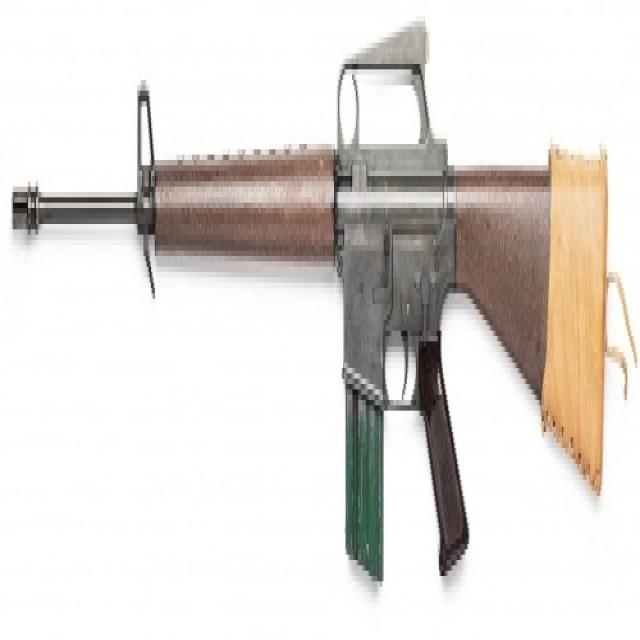rifle: (13, 1, 620, 640)
